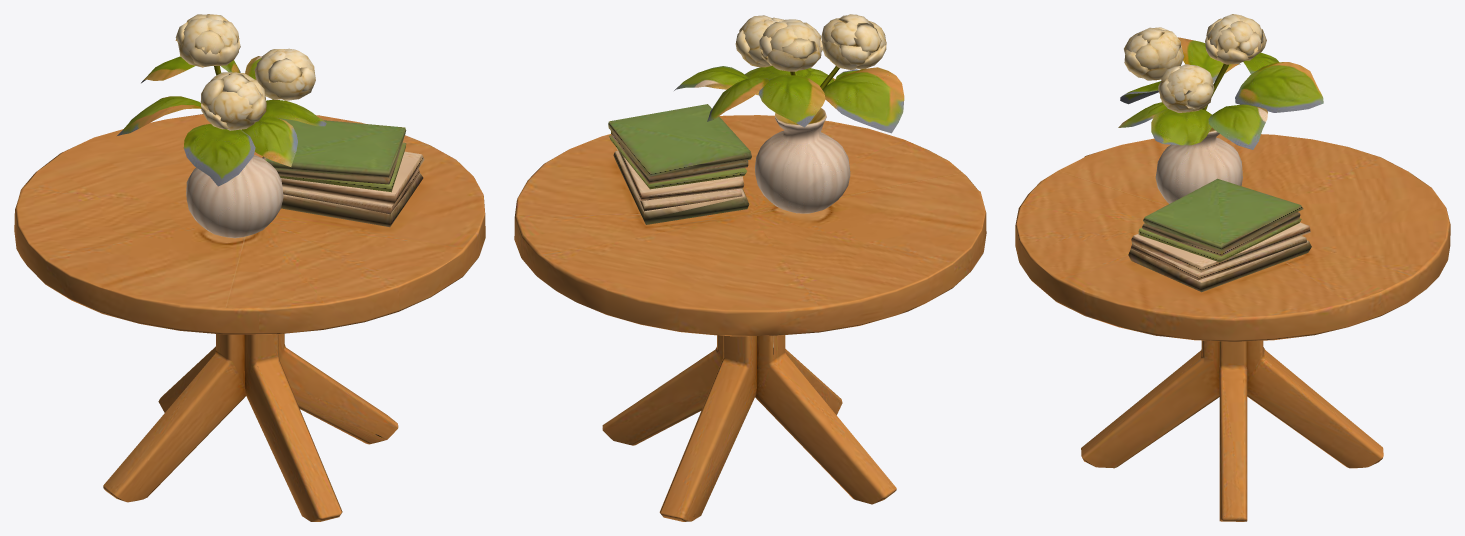
File: table.round.glb
3 views of the same model, side by side, from view 1: azimuth 30°, elevation 25°; view 2: azimuth 150°, elevation 25°; view 3: azimuth 270°, elevation 25° (orthographic). The views are drawn at different scales.
Visible parts, largest first — view 1: geometry_0; view 2: geometry_0; view 3: geometry_0.
Boxes of the visible parts, <box> form: geometry_0: <box>14,14,485,521</box>; geometry_0: <box>514,14,986,521</box>; geometry_0: <box>1015,14,1450,521</box>.
Bounding box in the file's own units: 0.9388 × 1 × 0.924.
1 material, 1 textured.
